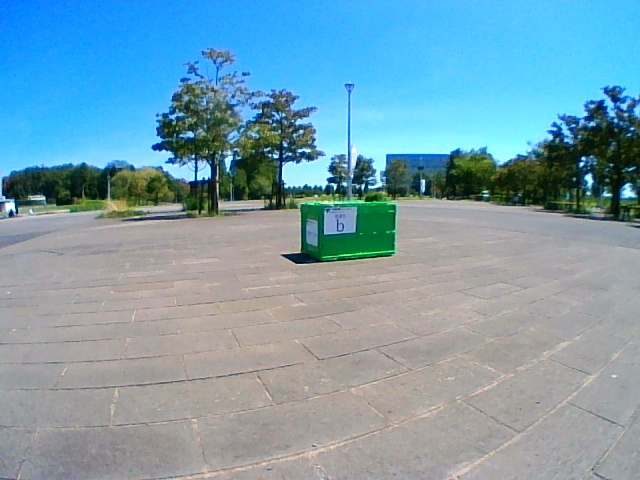green_box: (301, 202, 395, 260)
tag_b: (324, 208, 356, 233)
